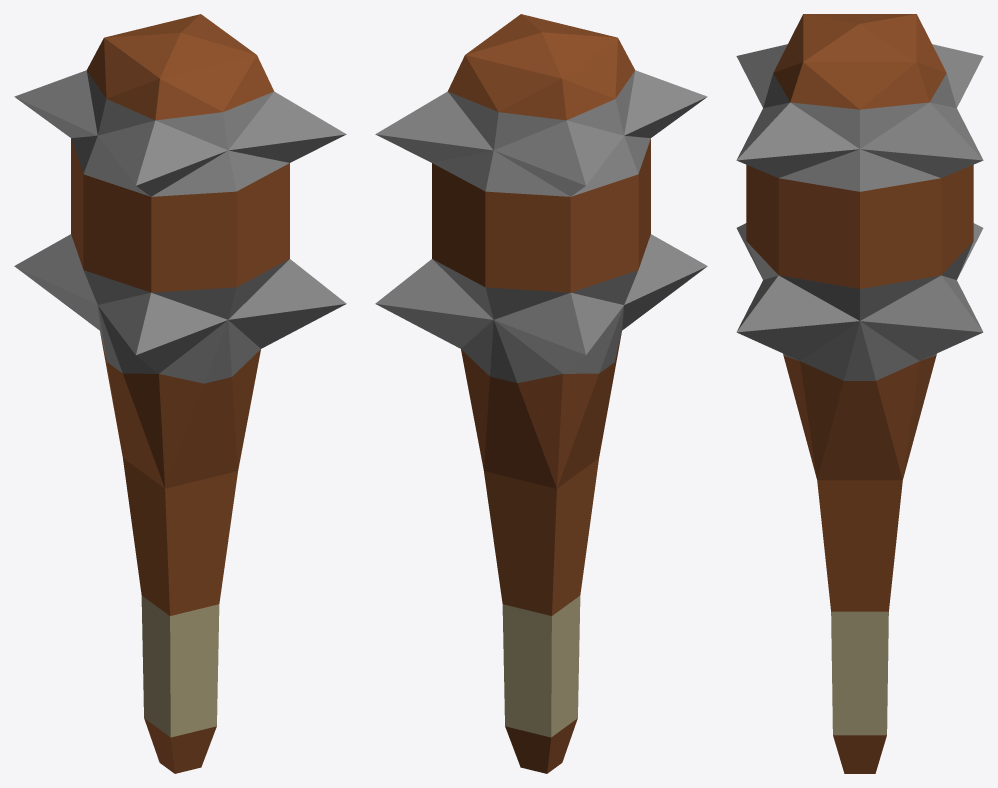
File: club2.dae
3 renders of one model, left to right at view 1: azimuth 30°, elevation 25°; view 2: azimuth 150°, elevation 25°; view 3: azimuth 270°, elevation 25°, orthographic.
Visible parts, largest first — view 1: Cube; view 2: Cube; view 3: Cube.
Part boxes in pixels (x1,y1,x2,y2): Cube: [14, 14, 346, 773]; Cube: [375, 14, 707, 773]; Cube: [736, 14, 983, 773].
Bounding box in the file's own units: 2.18 × 2.18 × 7.22.
